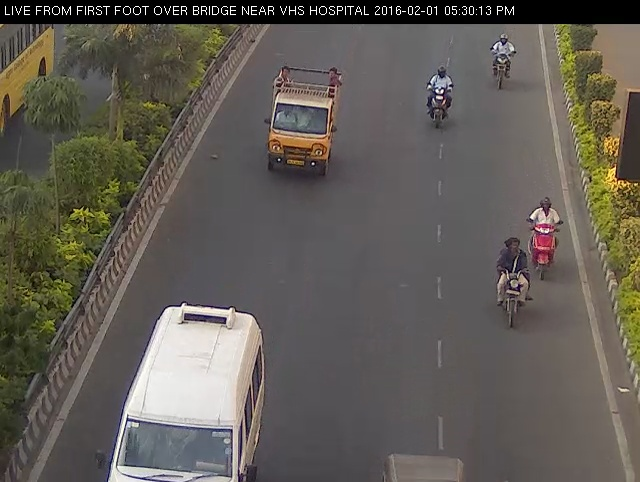Bus: (90, 285, 272, 482)
Car: (248, 47, 355, 199), (364, 440, 483, 482)
Person: (520, 191, 572, 291), (489, 232, 537, 335), (481, 21, 526, 98), (419, 55, 458, 137)
